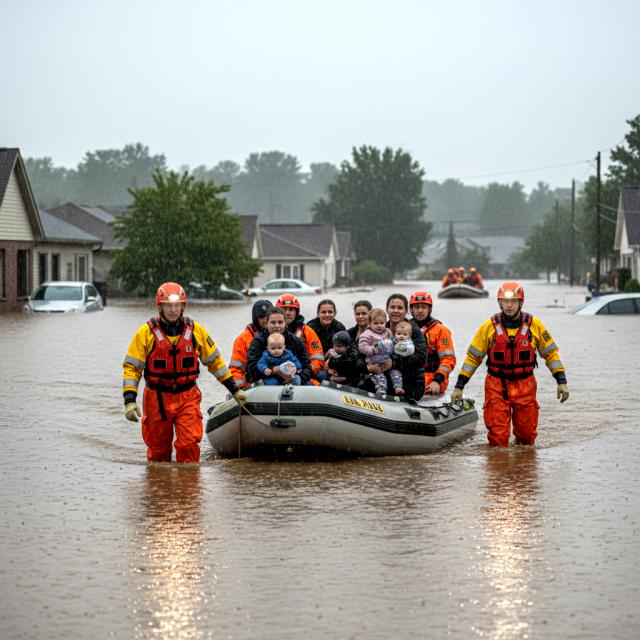civilian: (246, 306, 315, 394), (384, 295, 426, 403), (361, 310, 404, 402), (307, 296, 353, 360), (256, 333, 302, 391), (325, 330, 363, 395), (348, 293, 376, 354), (391, 321, 415, 372)
rescuer: (117, 279, 250, 477), (455, 277, 571, 453), (404, 292, 456, 400), (274, 293, 328, 387), (229, 298, 276, 391), (468, 266, 486, 290), (454, 265, 470, 285), (444, 269, 460, 289)
